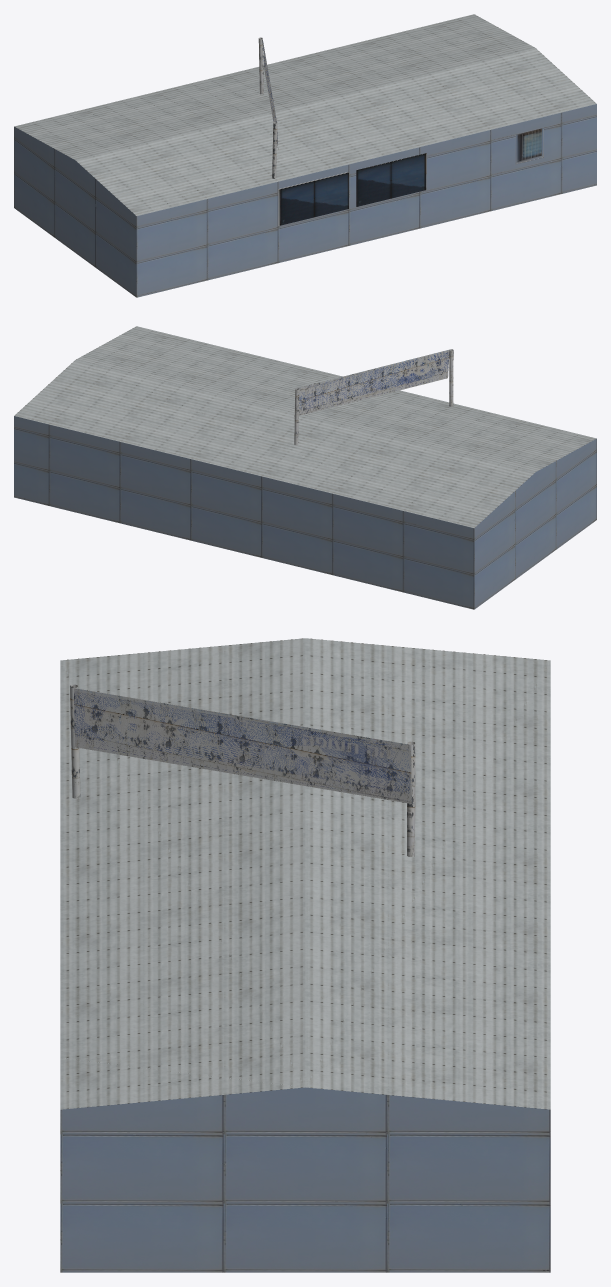
The model's file is Lahak1.dae.
3 views of the same model, one above another, from view 1: azimuth 30°, elevation 25°; view 2: azimuth 150°, elevation 25°; view 3: azimuth 270°, elevation 25° (orthographic). The views are drawn at different scales.
Visible parts, largest first — view 1: SketchUp (×5); view 2: SketchUp (×3); view 3: SketchUp (×3).
Boxes of the visible parts, x1,y1,x2,y2 form: SketchUp (×5): (14, 14, 596, 297); SketchUp (×3): (14, 326, 596, 609); SketchUp (×3): (60, 638, 550, 1272).
Size of the model in its own units: 512 by 236 by 153.
Materials: 5 (5 with a texture image).
